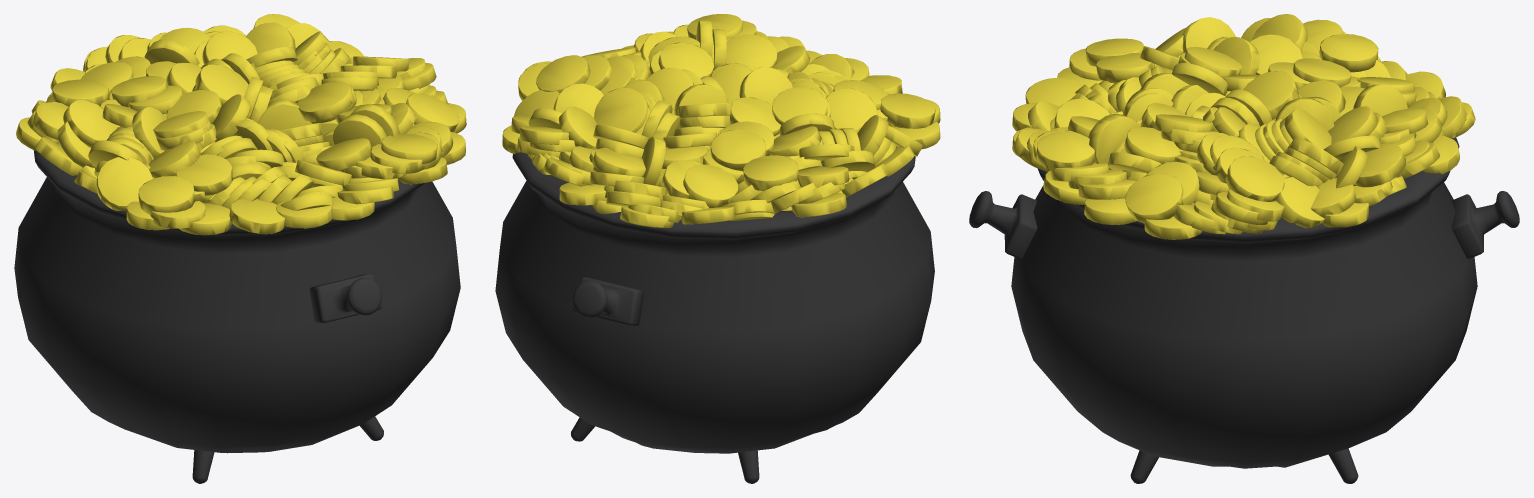
File: reward.fbx
The picture shows the model from 3 angles, left to right: view 1: azimuth 30°, elevation 25°; view 2: azimuth 150°, elevation 25°; view 3: azimuth 270°, elevation 25°; orthographic projection. The views are drawn at different scales.
Parts seen in each view (by area): view 1: 19270_Pot_of_Gold_new; view 2: 19270_Pot_of_Gold_new; view 3: 19270_Pot_of_Gold_new.
Boxes of the visible parts, box(x1,y1,x2,y2) form: 19270_Pot_of_Gold_new: box(14, 14, 466, 483); 19270_Pot_of_Gold_new: box(495, 14, 940, 483); 19270_Pot_of_Gold_new: box(969, 14, 1519, 483).
Bounding box in the file's own units: 2439 × 2100 × 2878.
